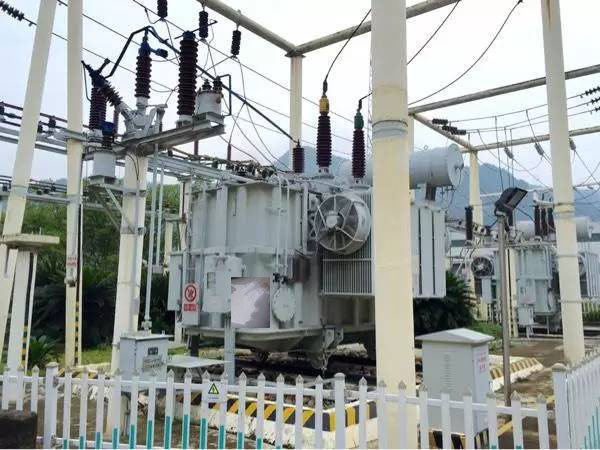oil: (230, 277, 272, 328)
